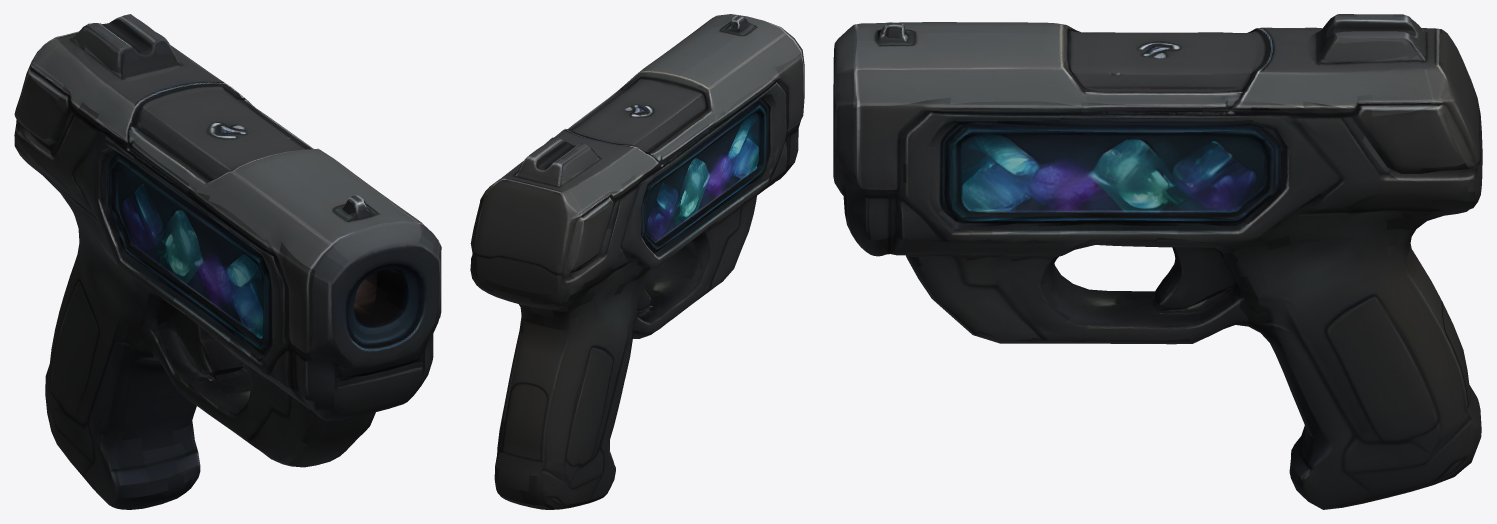
Rendered from alien_gun.glb.
The picture shows the model from 3 angles, left to right: view 1: azimuth 30°, elevation 25°; view 2: azimuth 150°, elevation 25°; view 3: azimuth 270°, elevation 25°; orthographic projection. The views are drawn at different scales.
Visible parts, largest first — view 1: tripo_node_2928b97c-ab0e-4645-8dc0-eaf9cb8943fb; view 2: tripo_node_2928b97c-ab0e-4645-8dc0-eaf9cb8943fb; view 3: tripo_node_2928b97c-ab0e-4645-8dc0-eaf9cb8943fb.
Boxes of the visible parts, x1,y1,x2,y2 form: tripo_node_2928b97c-ab0e-4645-8dc0-eaf9cb8943fb: (14, 14, 441, 509); tripo_node_2928b97c-ab0e-4645-8dc0-eaf9cb8943fb: (470, 14, 804, 509); tripo_node_2928b97c-ab0e-4645-8dc0-eaf9cb8943fb: (833, 14, 1482, 509).
Bounding box in the file's own units: 0.249 × 0.8049 × 0.9997.
Materials: 1 (1 with a texture image).
